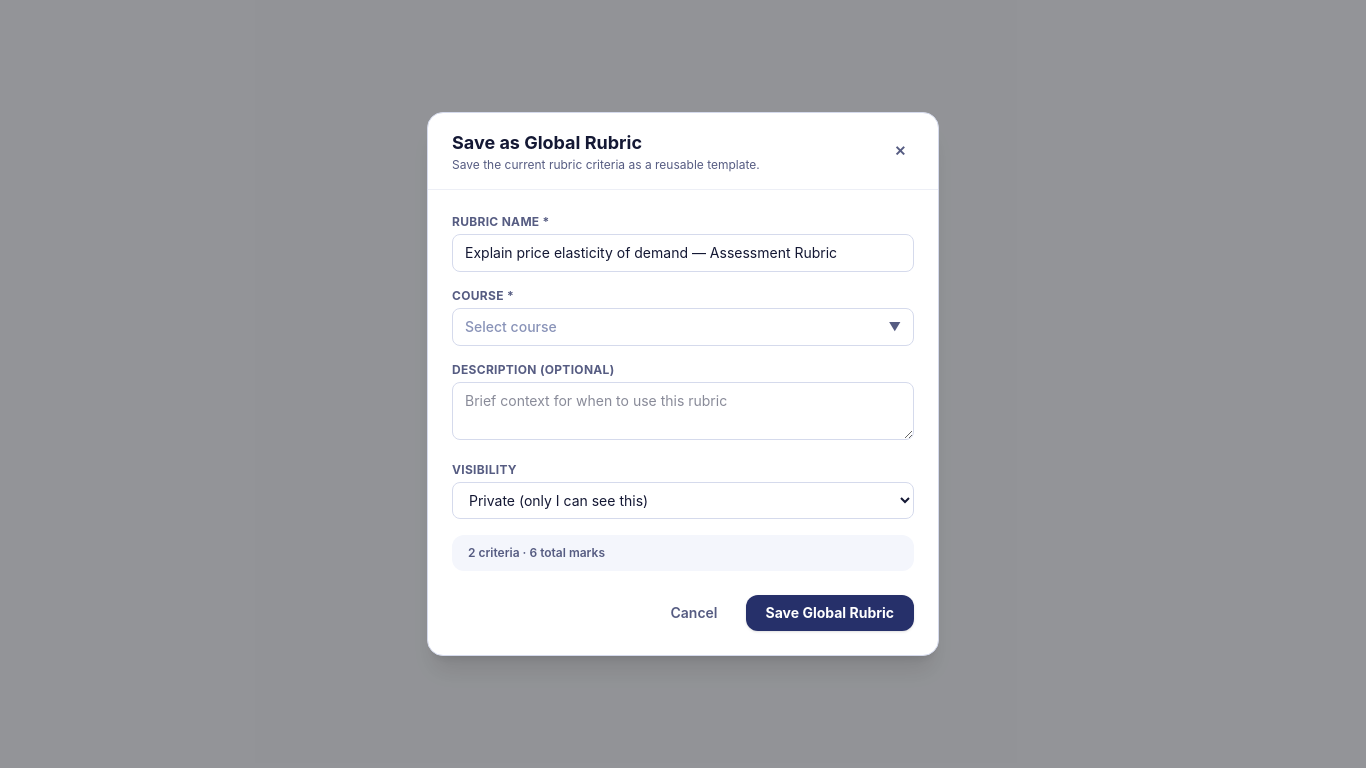
Test: Save as Global Rubric Workflow › shows error and keeps modal open if creation fails or course is empty
Note: Leave course empty
Click the button "Save Global Rubric" at coordinates (830, 613), box [746,595,914,631]
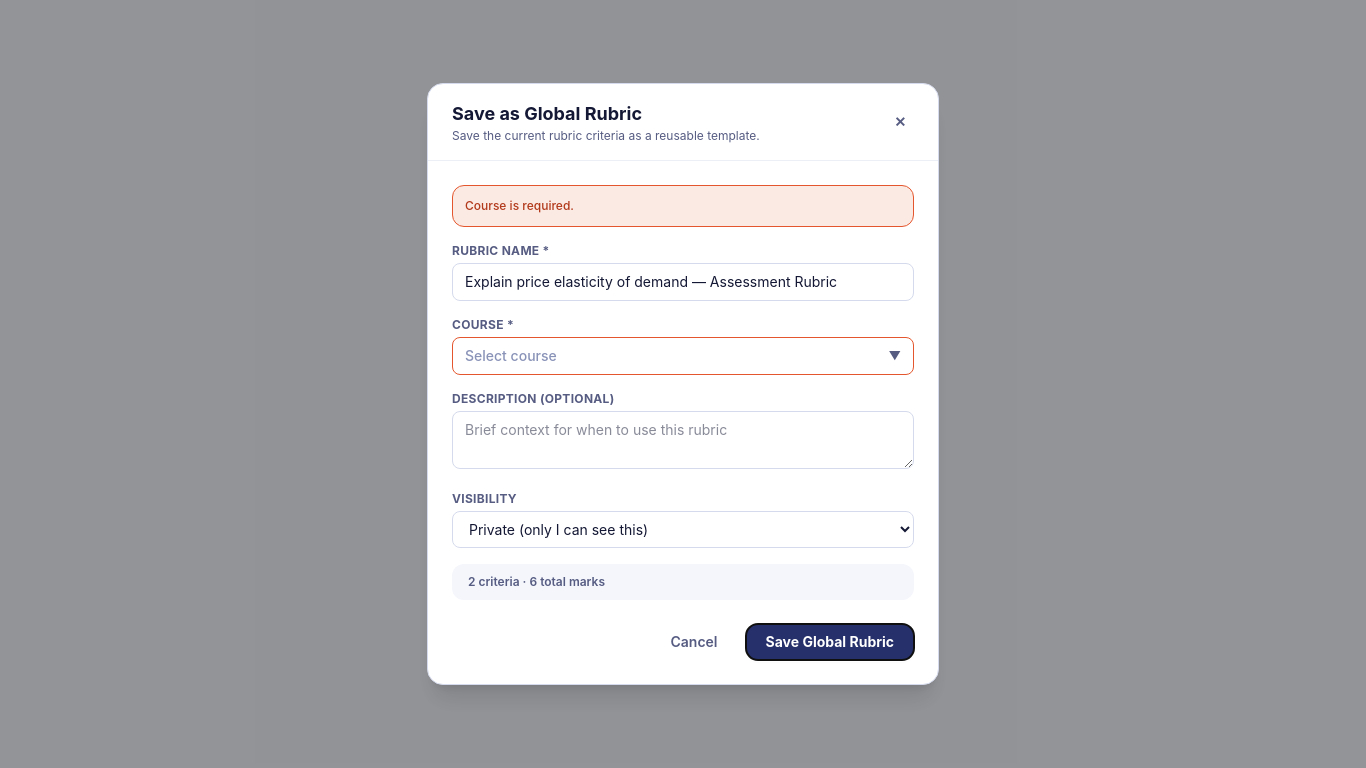
Expected: the text "Course is required." is shown, [452,185,914,227]
